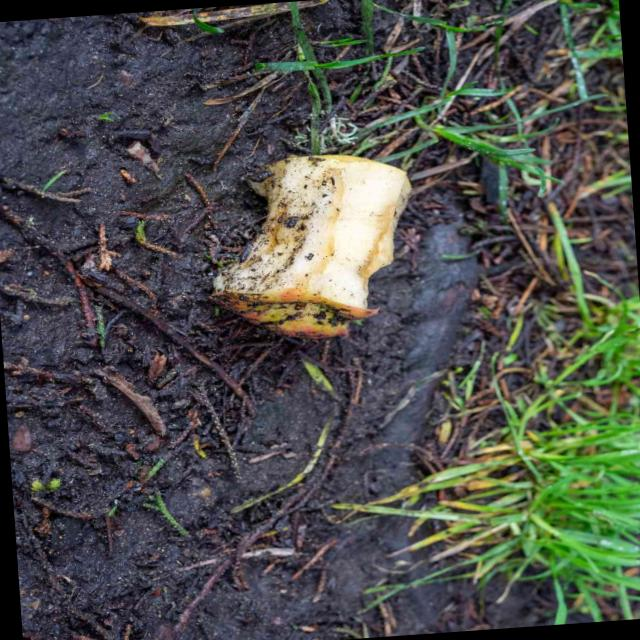apple_fruit: (199, 131, 438, 374)
